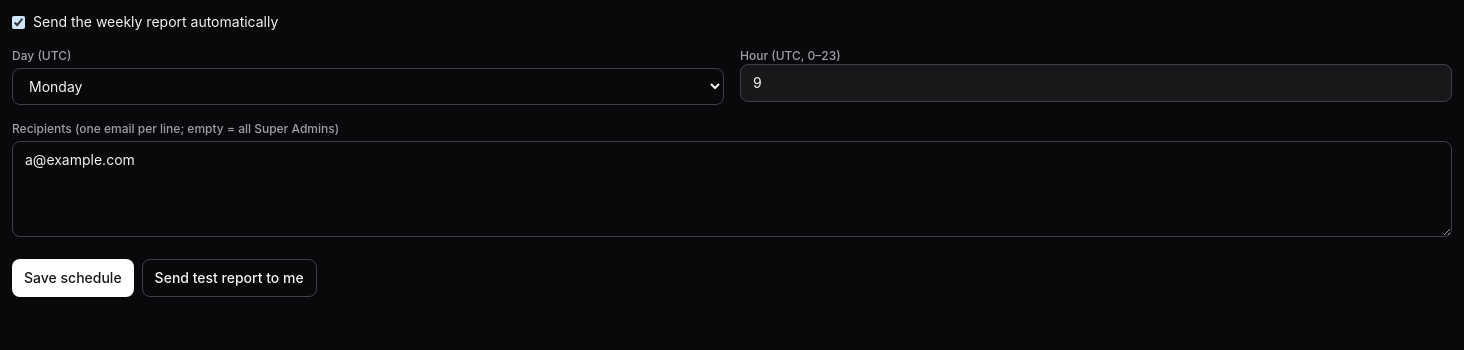
Test: ReportScheduleForm › shows the server error when the test send fails
This screenshot has width=1464, height=350.
Click the button "Send test report to me": [229, 278] box [142, 259, 317, 297]
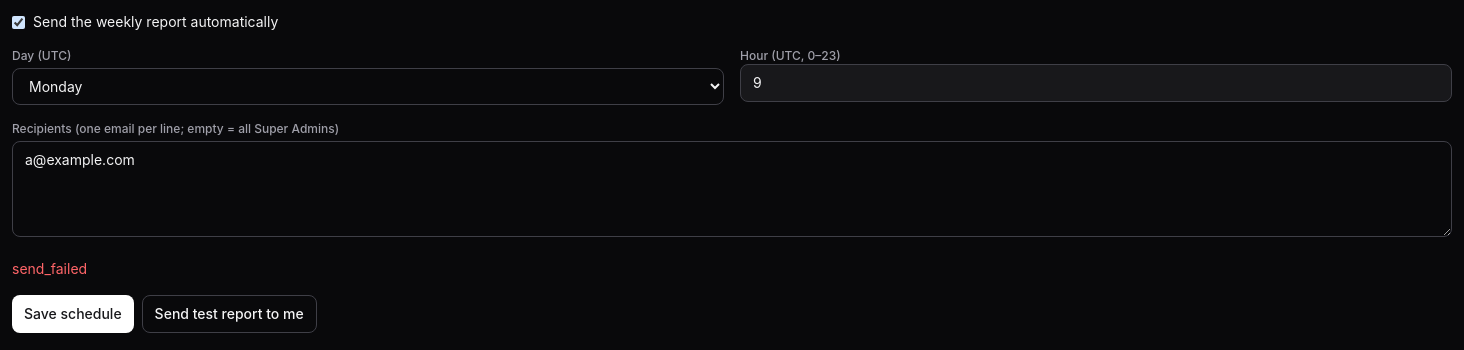
Result: the message reads "send_failed" at [12, 260, 87, 277]
